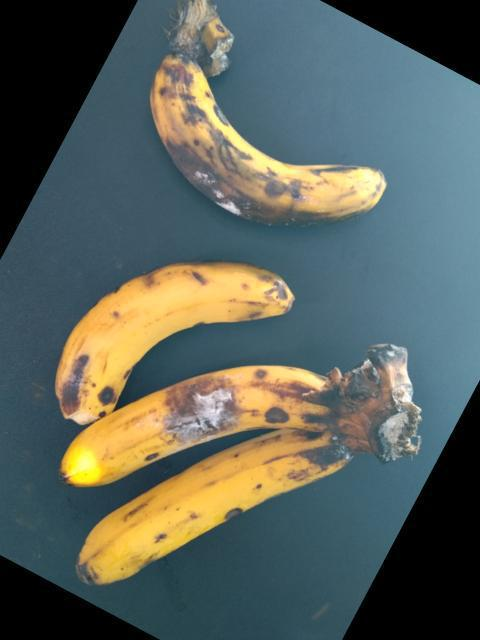overripe: (26, 255, 331, 420), (70, 434, 364, 595), (53, 369, 338, 489)
rotten: (152, 49, 384, 251)
